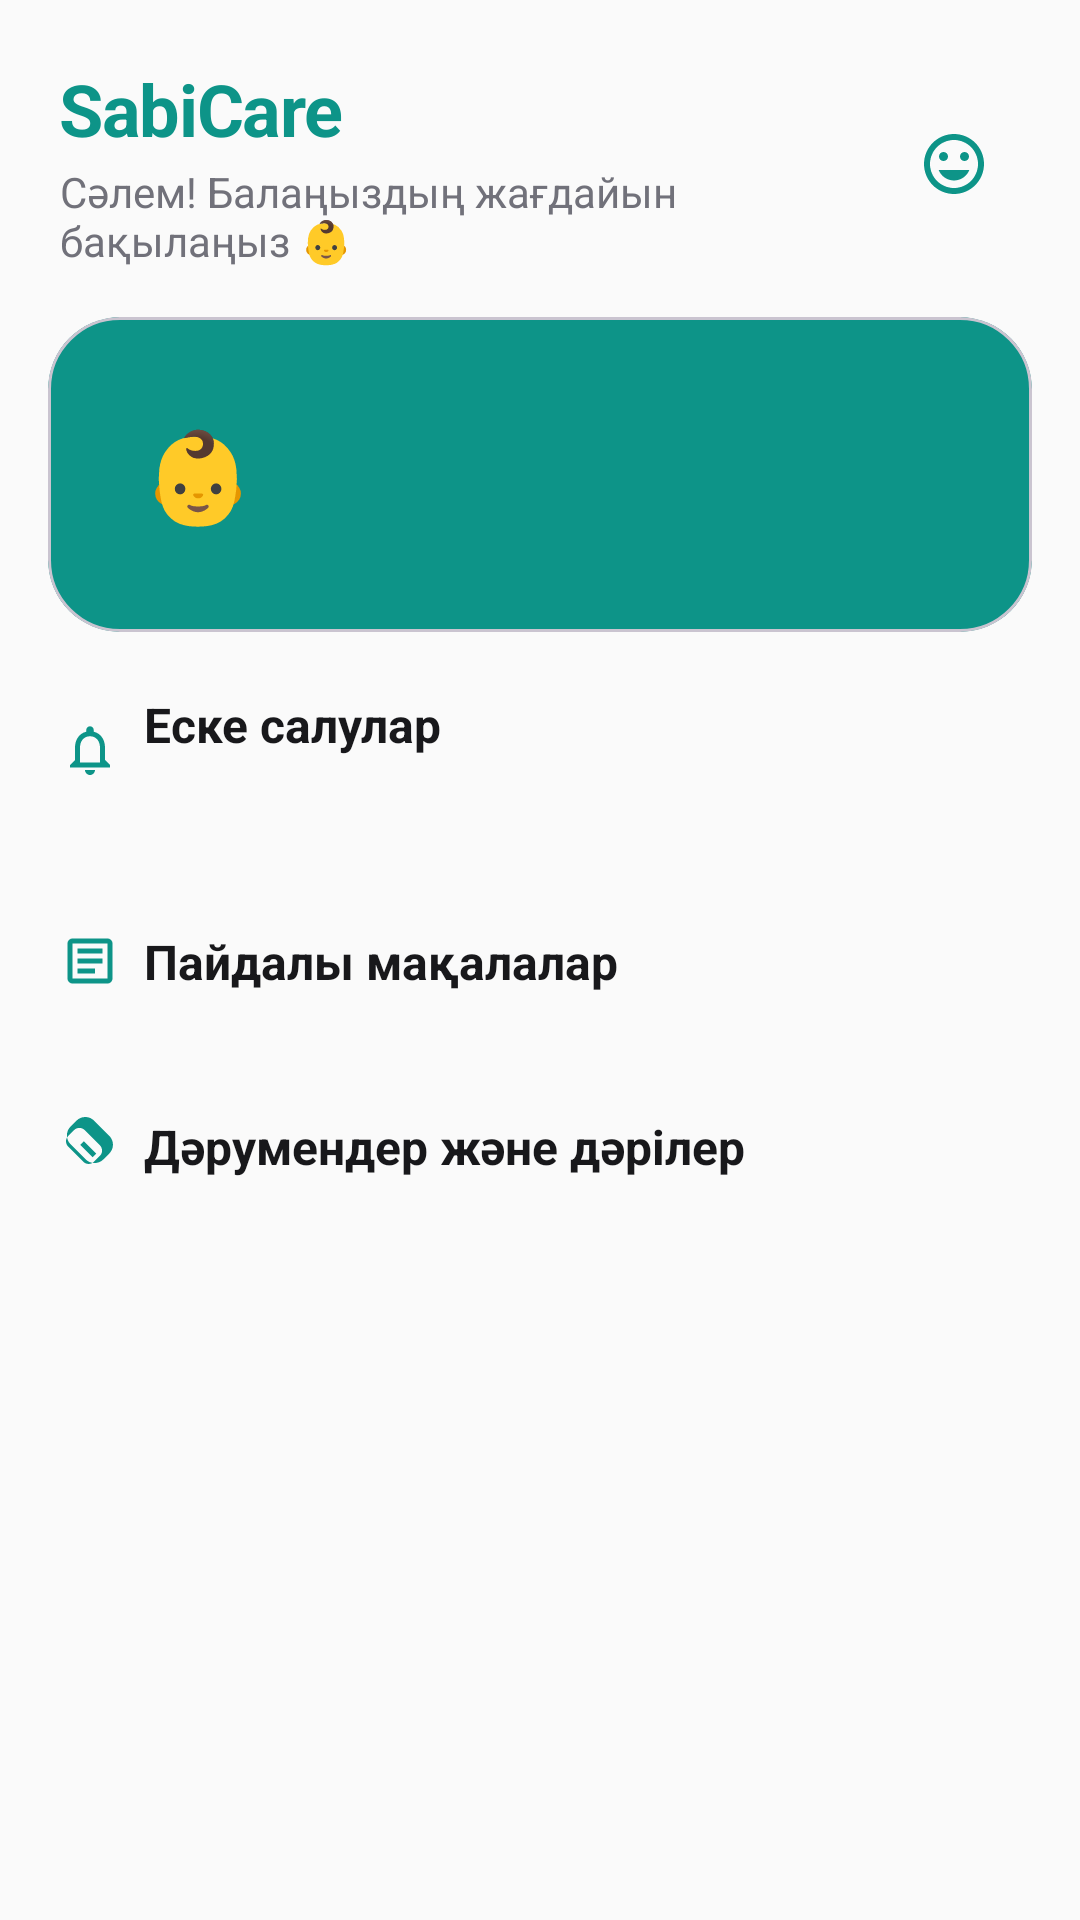

Screen size 1080 x 1920. Icon name, then its center in pixels as (x,y):
article: (90,961)
bell: (90,750)
vitamin: (89,1140)
